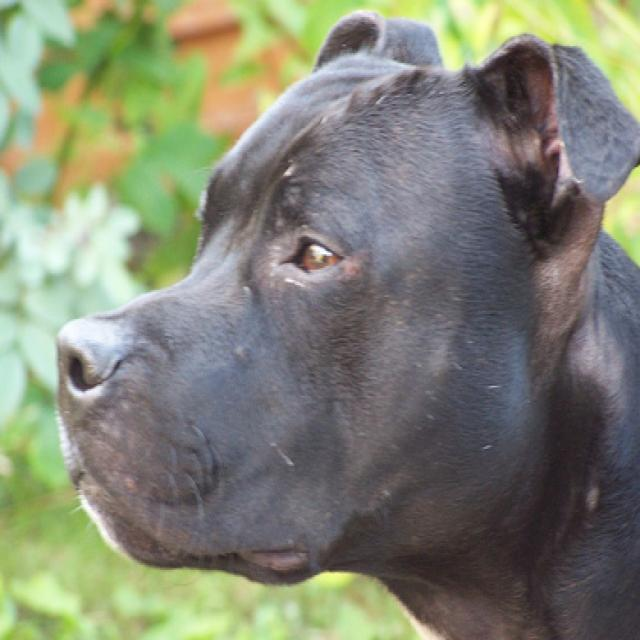dog-staffordshire_bull_terrier: (50, 2, 637, 637)
